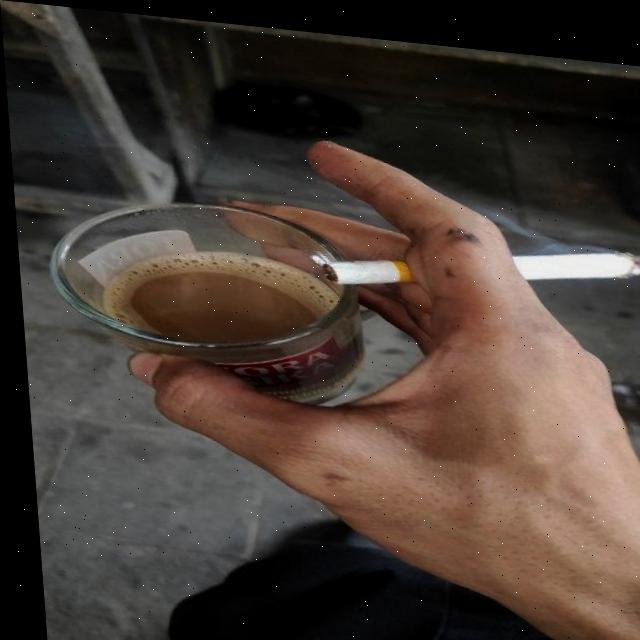cigarette: (318, 213, 640, 305)
